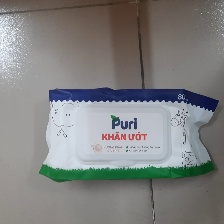Puri Trang: (38, 84, 219, 181)
